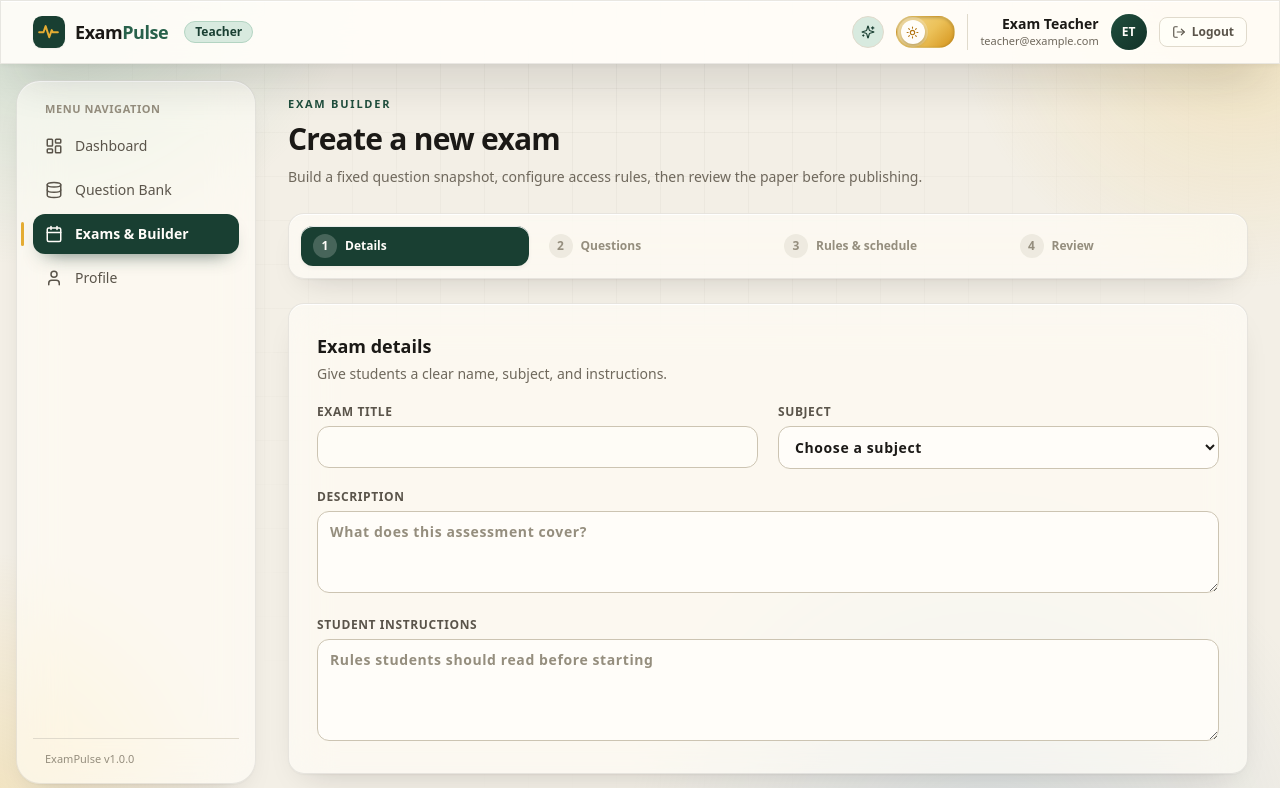
moves through the four builder steps with a selected question and batch
This screenshot has width=1280, height=788.
Type "Database Quiz" into the field labelled "Exam title".
click(538, 446); type("Database Quiz")  # box [317,426,758,468]
Select "CS301 · DBMS" in the dropdown labelled "Subject" at x=998, y=447, box [778,426,1219,468]
(page scrolled)
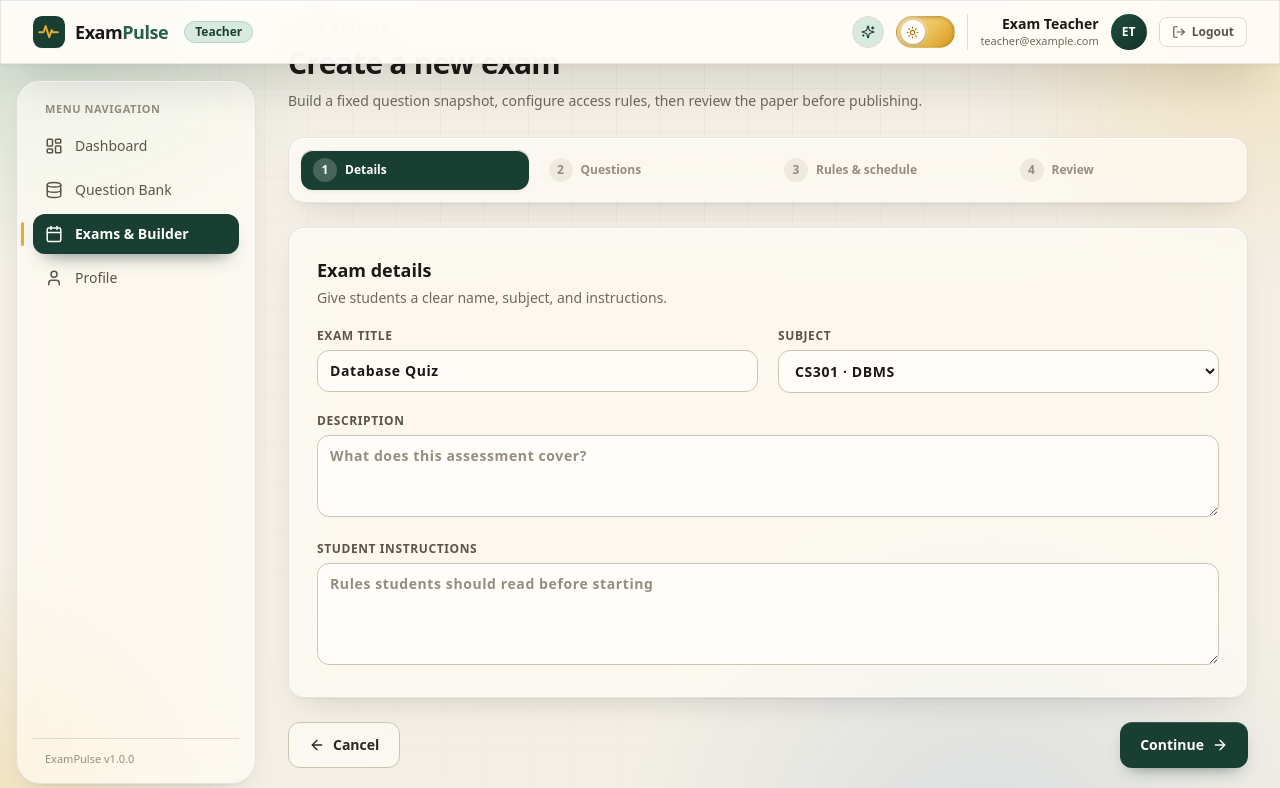
Click the button "Continue".
click(1184, 744)  # box [1120,722,1248,768]
(page scrolled)
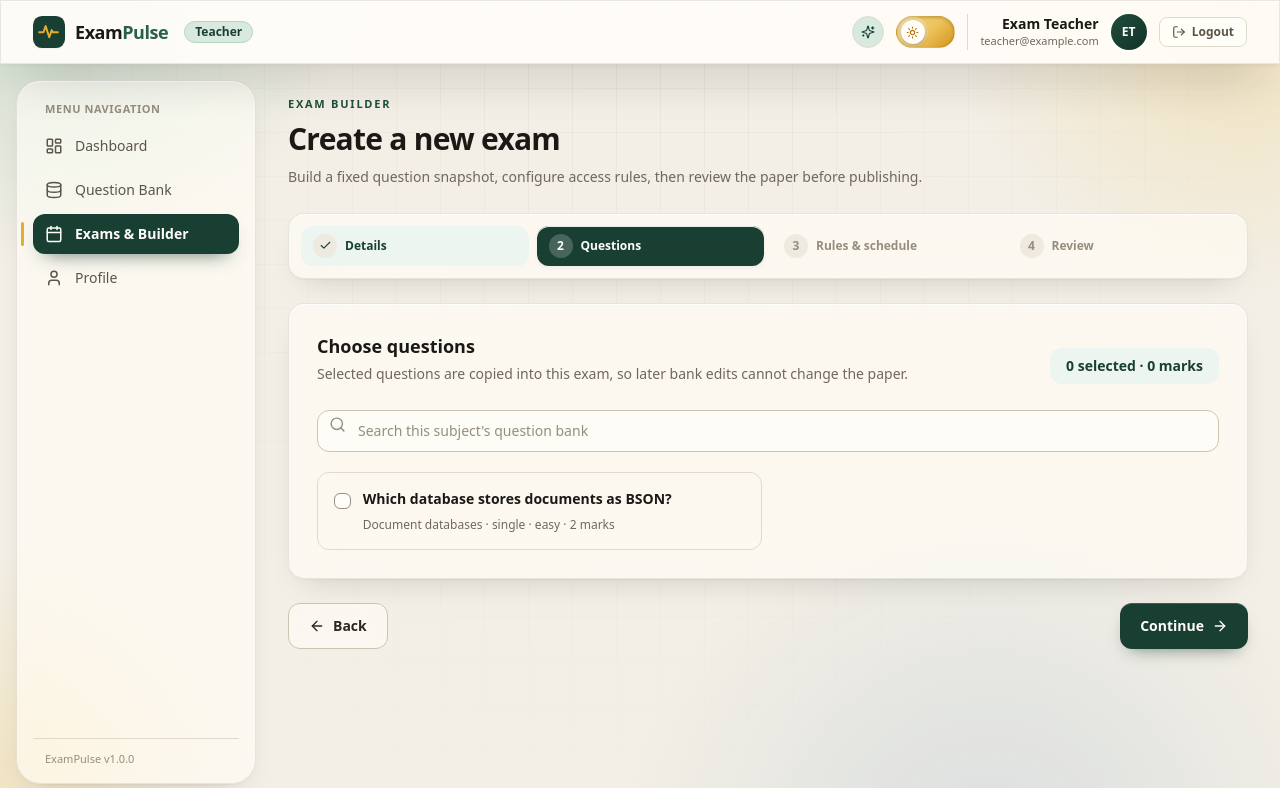
Click the checkbox labelled "Which database stores documents as BSON".
click(342, 501)  # box [334,492,351,509]
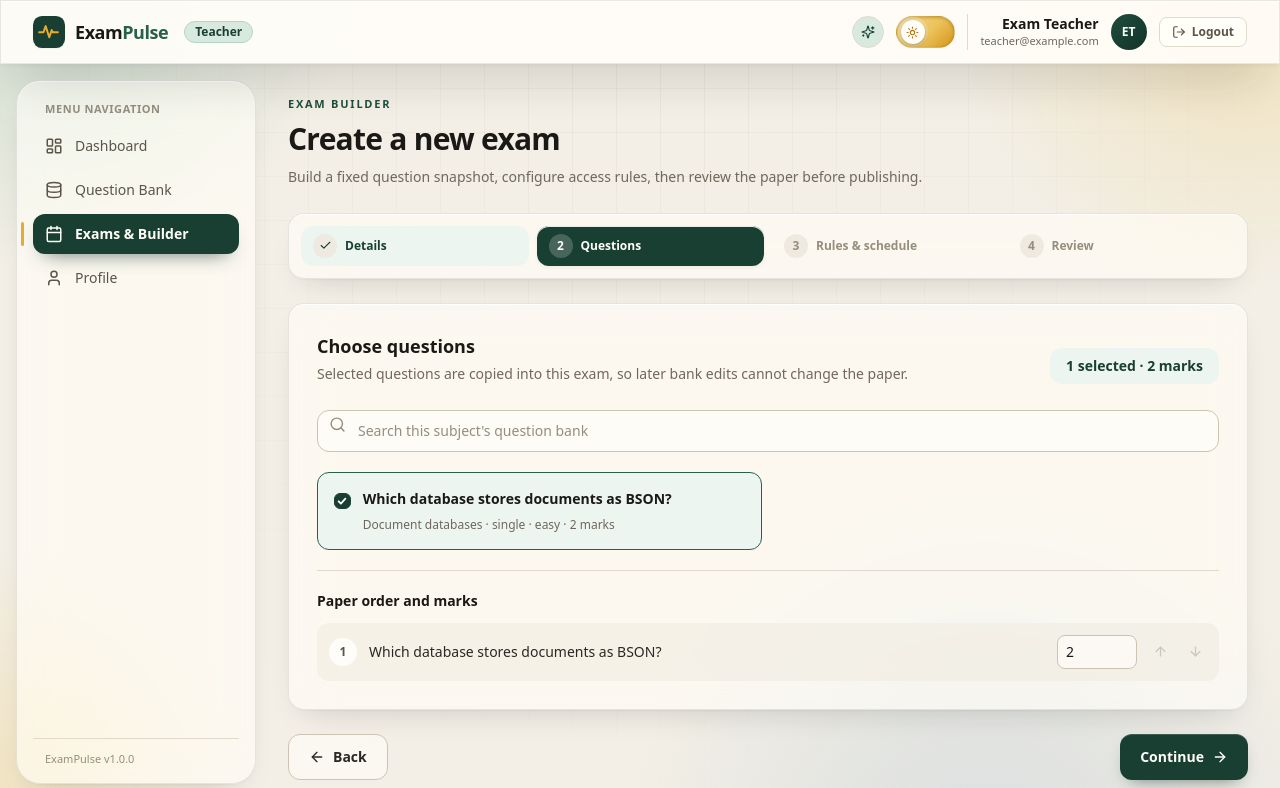
expect the text "1 selected · 2 marks" is shown: met, box [1050,348,1219,384]
Click the button "Continue".
click(1184, 756)  # box [1120,734,1248,780]
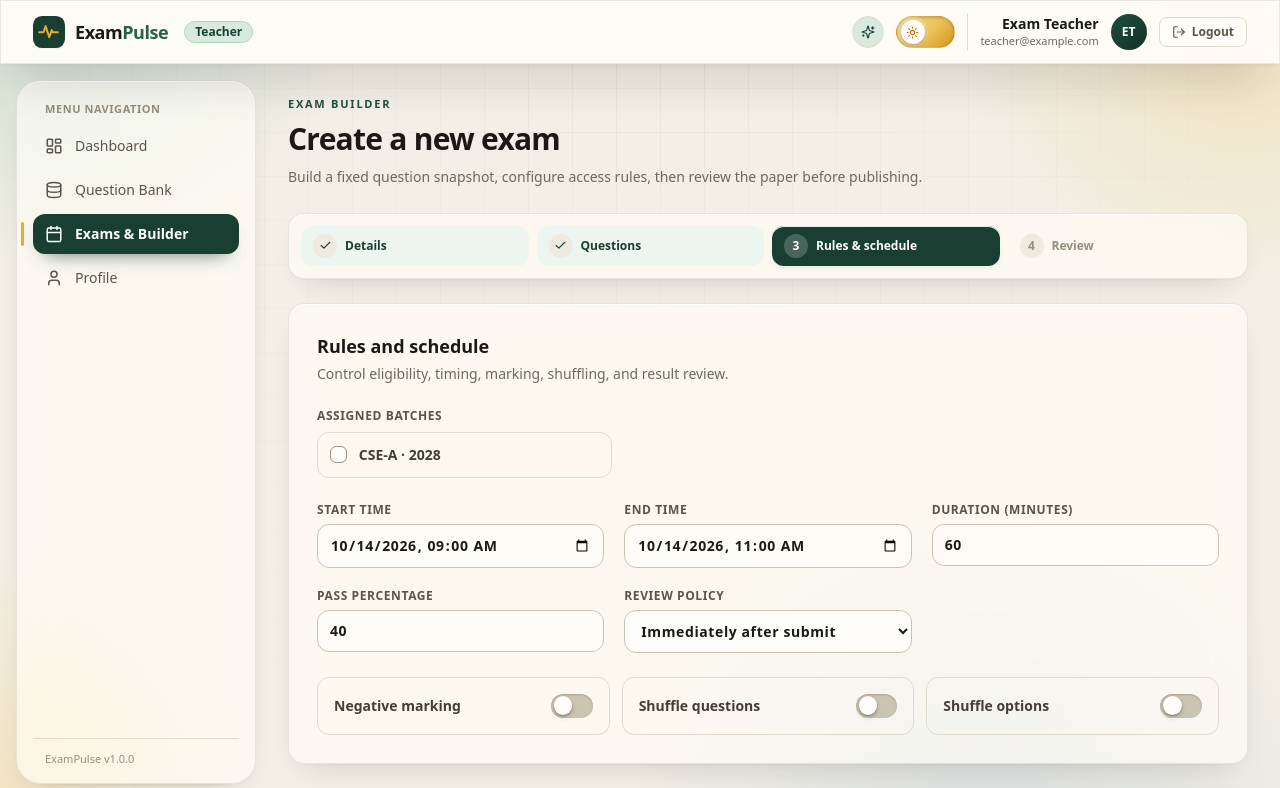
Click the checkbox labelled "CSE-A · 2028".
click(338, 454)  # box [330,446,347,463]
(page scrolled)
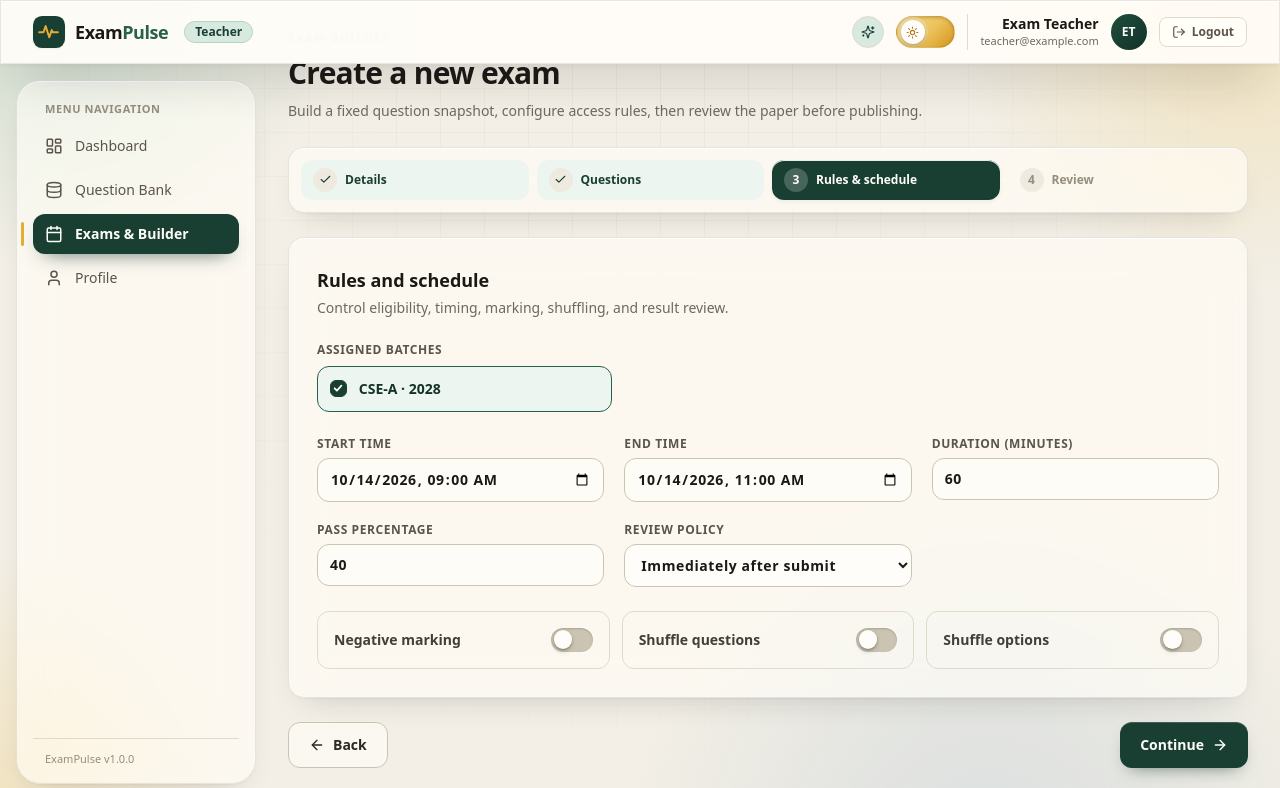
Click the button "Continue".
click(1184, 744)  # box [1120,722,1248,768]
(page scrolled)
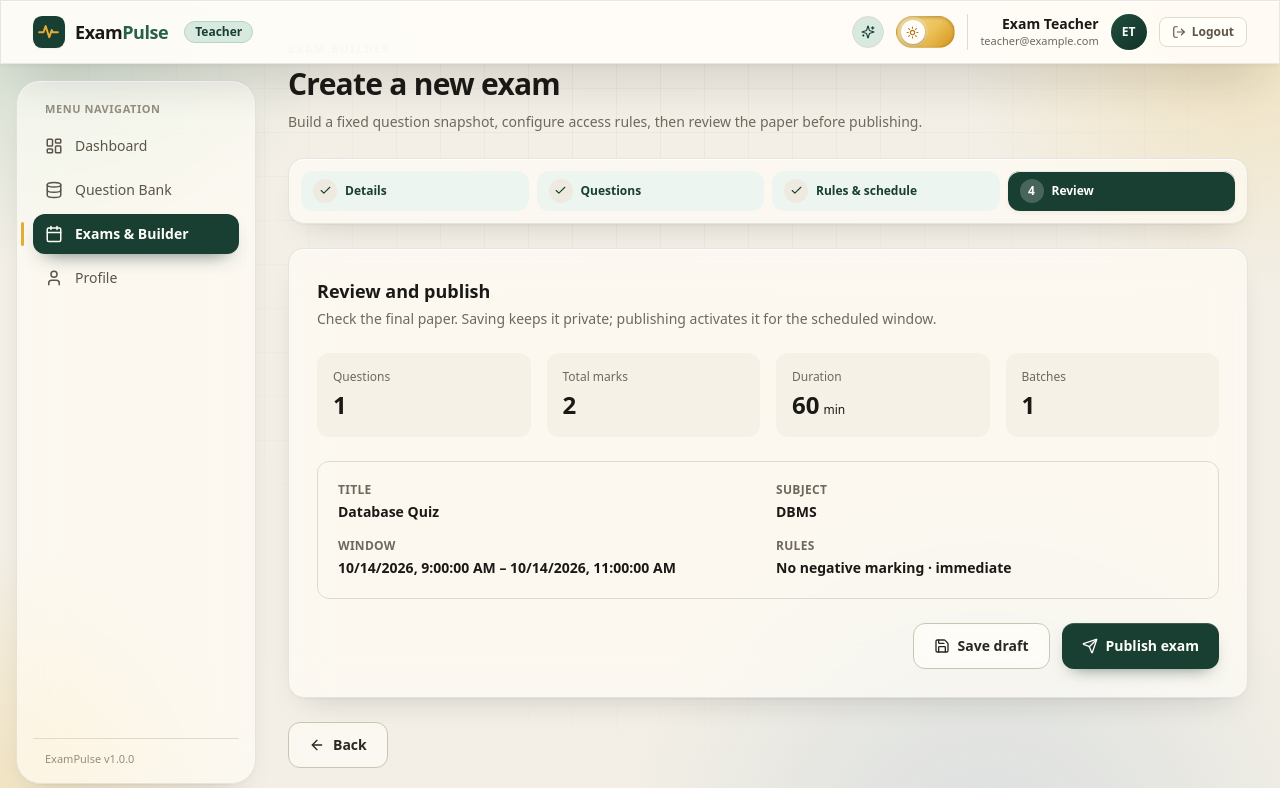
expect the heading "Review and publish" is shown: met, box [317,278,490,302]
expect the button "Save draft" is shown: met, box [913,622,1050,668]
expect the button "Publish exam" is shown: met, box [1062,622,1219,668]
